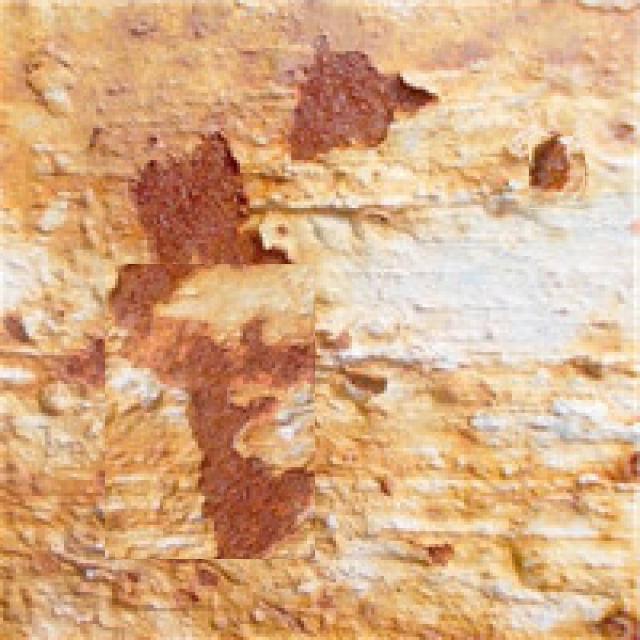Corrosion: (1, 1, 637, 638), (104, 129, 318, 558), (175, 318, 316, 558), (130, 129, 288, 265), (282, 41, 437, 163), (527, 131, 570, 191)
